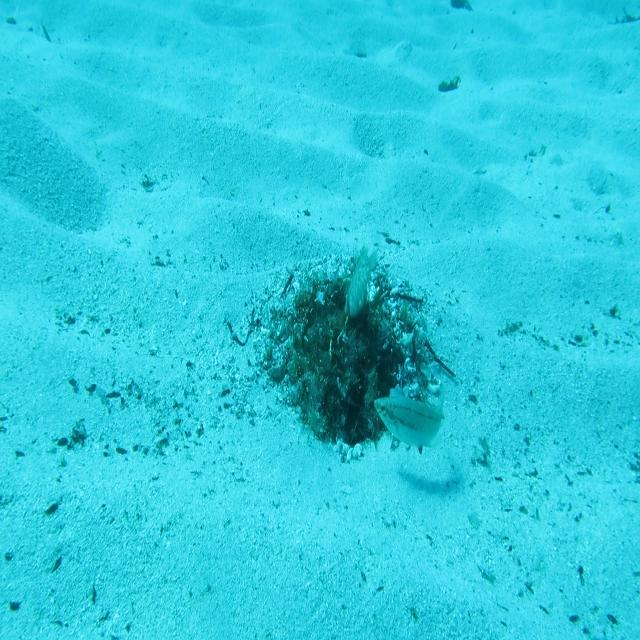NIP_CORE: (342, 242, 380, 323)
core_nest: (321, 296, 365, 351)
female: (371, 386, 447, 457)
nest: (244, 240, 448, 476)
vegetation: (437, 76, 464, 94)
